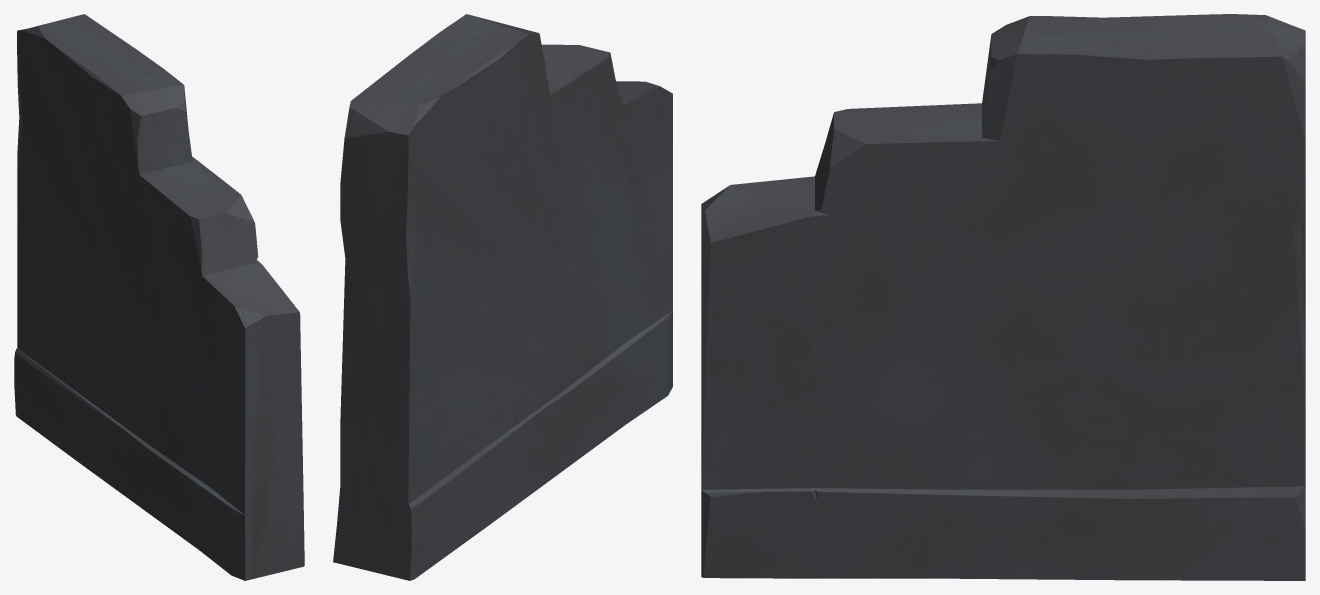
File: ruins_wall_3.fbx
The picture shows the model from 3 angles, left to right: view 1: azimuth 30°, elevation 25°; view 2: azimuth 150°, elevation 25°; view 3: azimuth 270°, elevation 25°; orthographic projection. The views are drawn at different scales.
Parts seen in each view (by area): view 1: wall 3; view 2: wall 3; view 3: wall 3.
Boxes of the visible parts, x1,y1,x2,y2 form: wall 3: (14, 14, 304, 580); wall 3: (333, 14, 672, 580); wall 3: (701, 14, 1305, 580).
Bounding box in the file's own units: 38.07 × 208 × 216.
